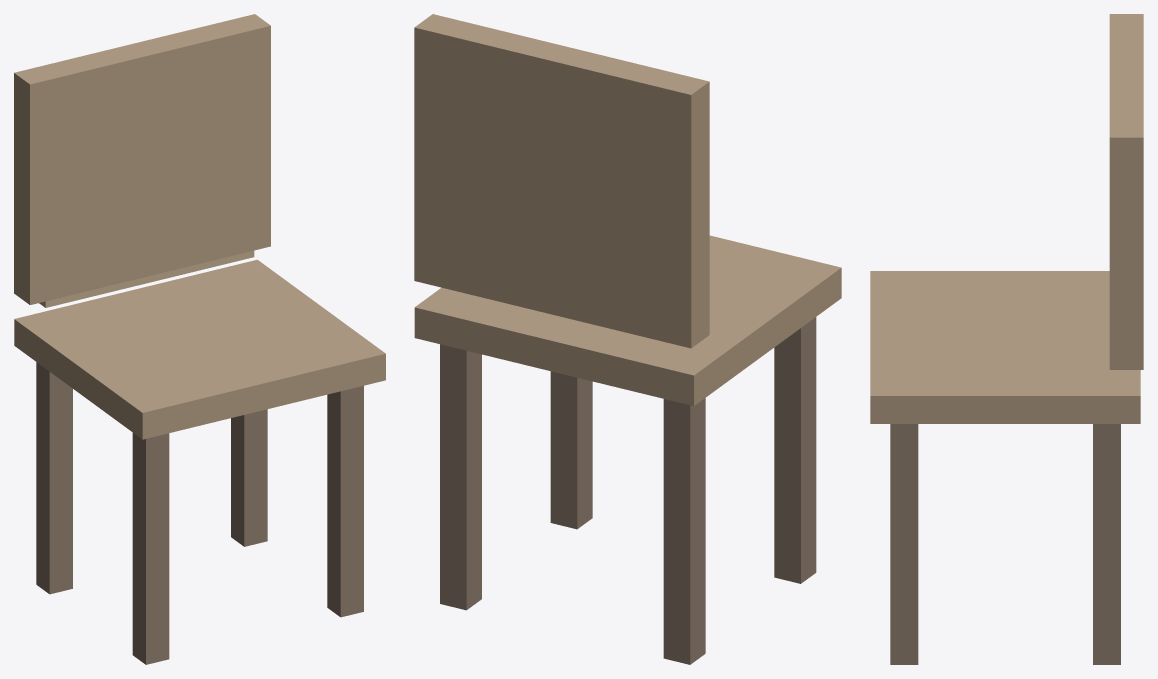
The model's file is chair.glb.
3 renders of one model, left to right at view 1: azimuth 30°, elevation 25°; view 2: azimuth 150°, elevation 25°; view 3: azimuth 270°, elevation 25°, orthographic. The views are drawn at different scales.
Visible parts, largest first — view 1: world; view 2: world; view 3: world.
Part boxes in pixels (<box>): world: <box>14,14,385,664</box>; world: <box>414,14,841,664</box>; world: <box>870,14,1143,664</box>.
Bounding box in the file's own units: 1.05 × 2.09 × 0.97.
